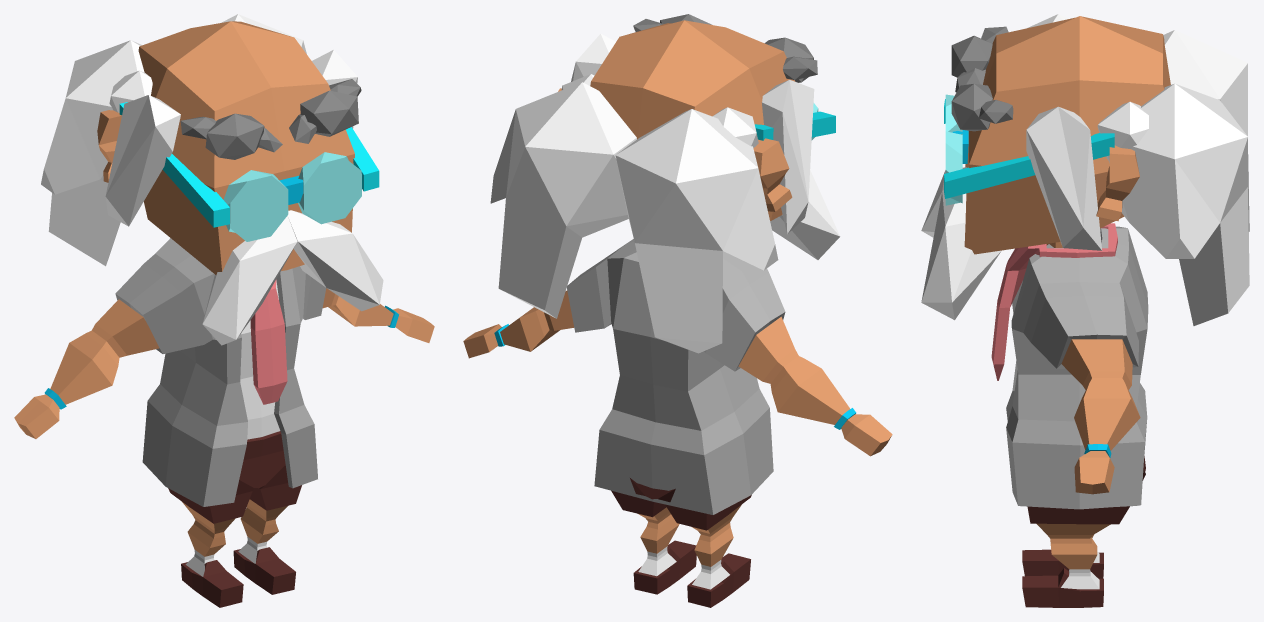
The model's file is GMDS_Prof_Model_ST002122721.fbx.
The picture shows the model from 3 angles, left to right: view 1: azimuth 30°, elevation 25°; view 2: azimuth 150°, elevation 25°; view 3: azimuth 270°, elevation 25°; orthographic projection. The views are drawn at different scales.
Parts seen in each view (by area): view 1: Prof Fox; view 2: Prof Fox; view 3: Prof Fox.
Part boxes in pixels (x1=…): Prof Fox: x1=14, y1=14, x2=434, y2=607; Prof Fox: x1=463, y1=14, x2=892, y2=607; Prof Fox: x1=921, y1=14, x2=1249, y2=607.
Bounding box in the file's own units: 161 × 208 × 108.
